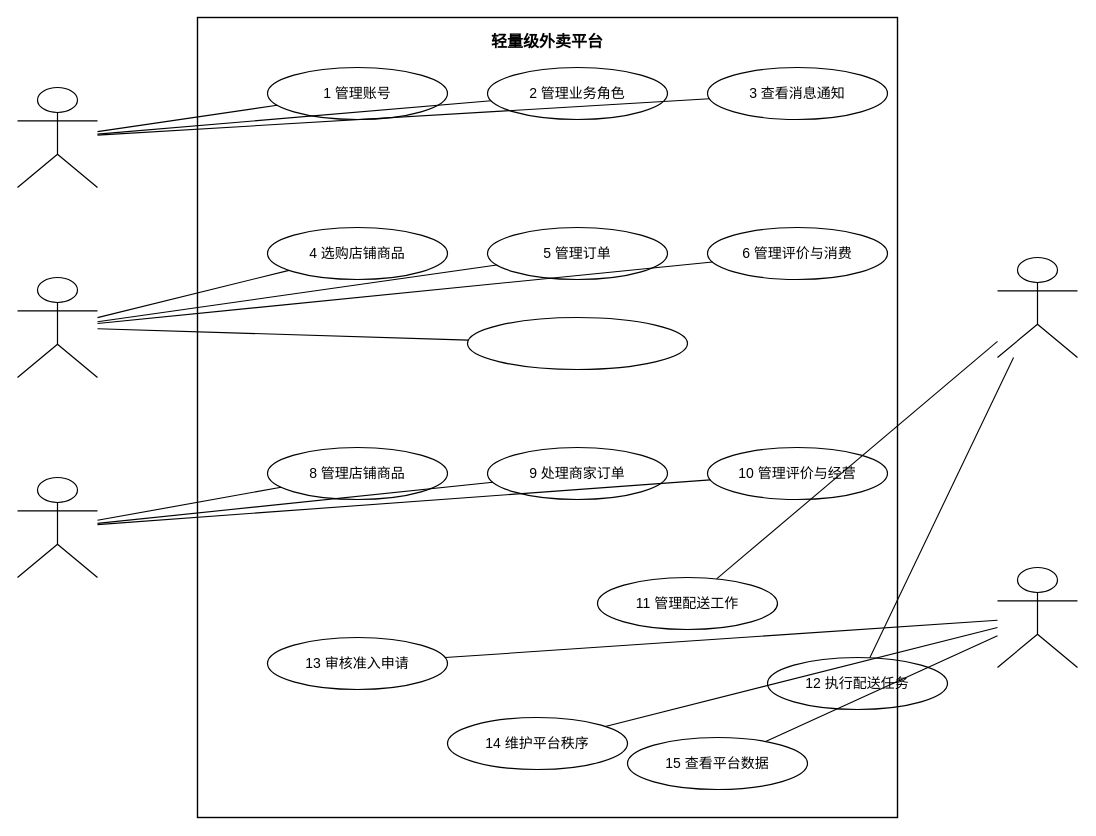
Image size: 1096x836. Some labels were removed from this diagram. The shapes that lost their labels are listed below. From the top down, each one's centre as x and y in pixels, then its label:
At (x=57, y=137): "用户".
At (x=57, y=327): "顾客".
At (x=1037, y=307): "骑手".
At (x=577, y=343): "7 使用智能与个性化服务".
At (x=57, y=527): "商家".
At (x=1037, y=617): "管理员".
